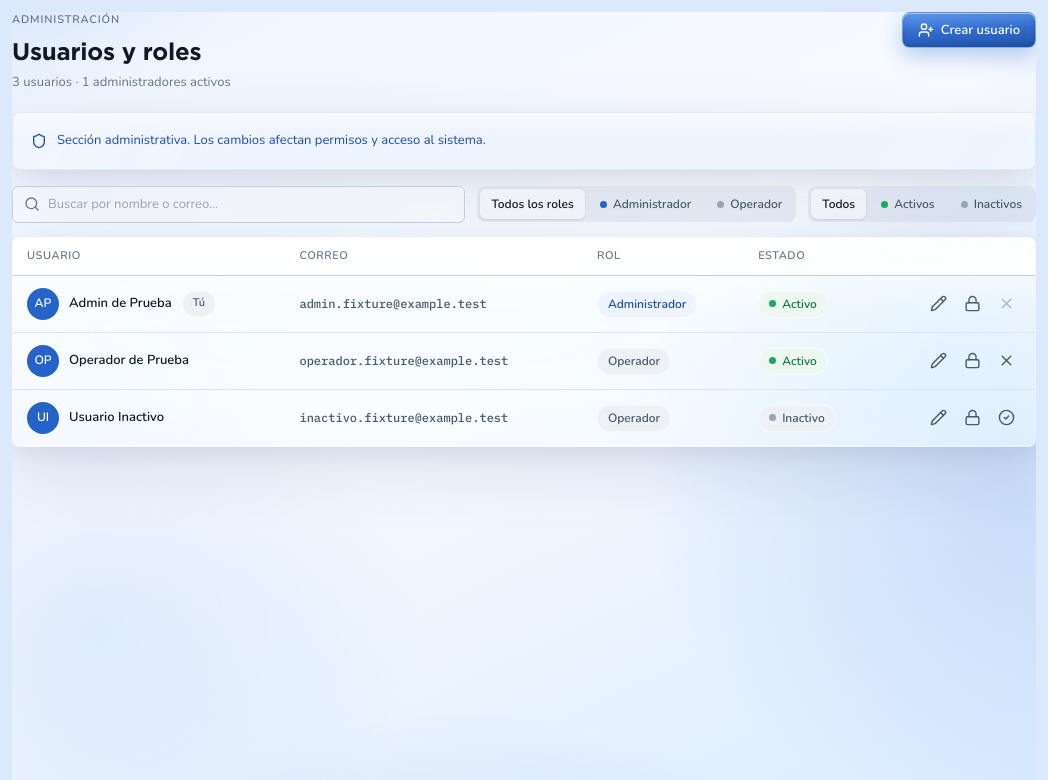
it: Users › filtra por estado (activos/inactivos)
The image size is (1048, 780).
Check: the text "Admin de Prueba" is shown, box [69,294,172,313]
Click the button "Inactivos" at (991, 204), box [950,189,1033,219]
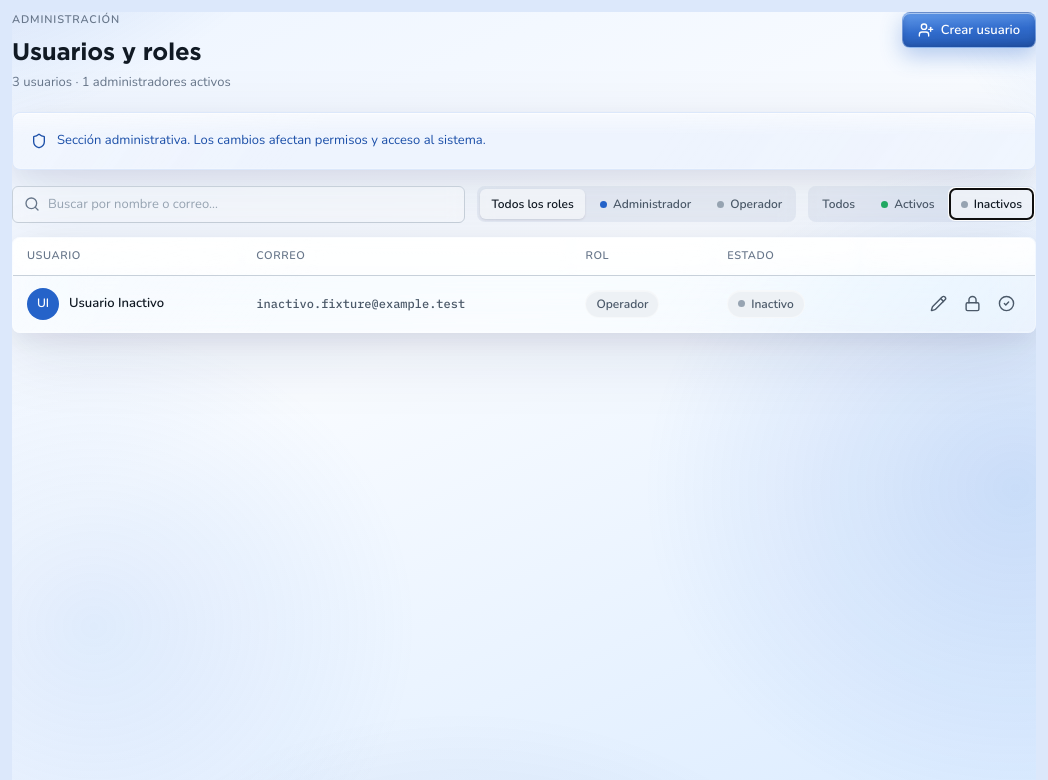
Check: the text "Usuario Inactivo" is shown, box [69,294,164,313]
Check: the text "Admin de Prueba" is gone
